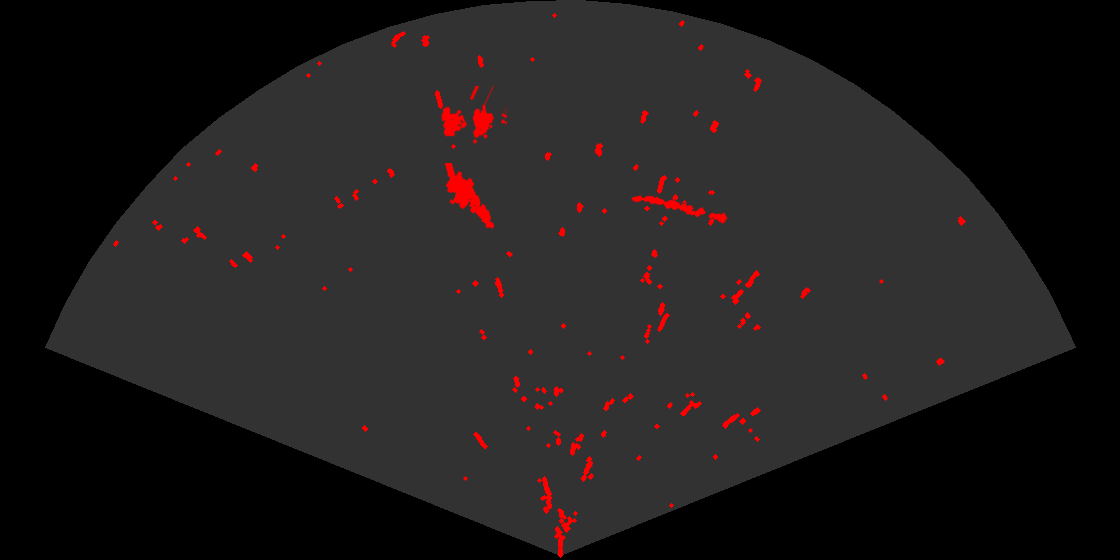cage: (440, 86, 507, 145)
chain: (630, 194, 730, 225)
frogman: (443, 163, 496, 230)
